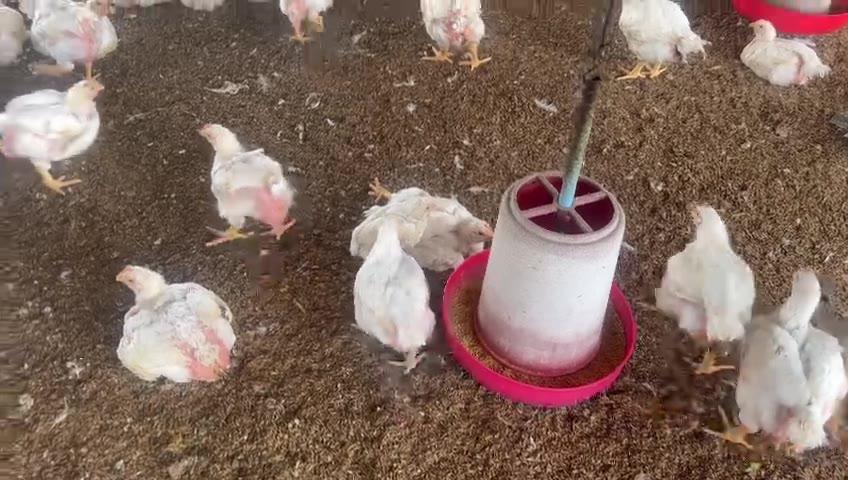AbNormal: (117, 264, 234, 383), (372, 178, 494, 271), (351, 195, 437, 268), (742, 20, 829, 83)
Normal: (731, 269, 848, 451), (659, 203, 754, 374), (354, 218, 435, 370), (0, 80, 107, 191), (197, 125, 293, 242), (27, 0, 120, 79), (614, 0, 704, 81), (418, 0, 487, 63), (277, 0, 332, 43)
